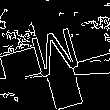M_S: (26, 25, 84, 85)
